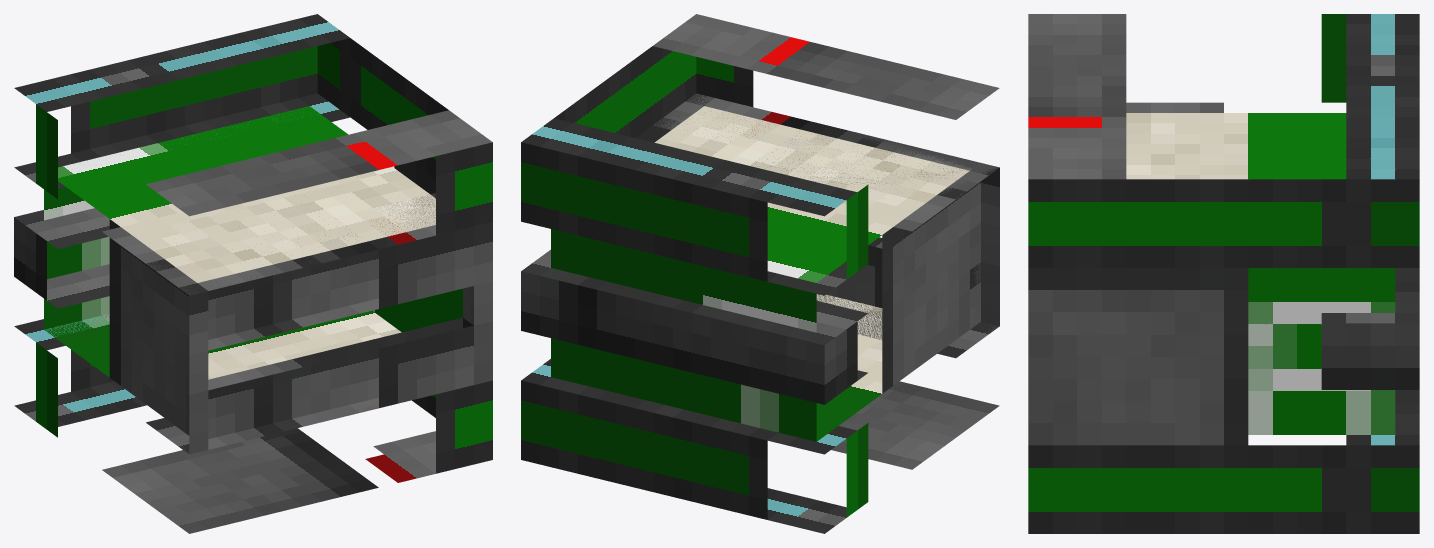
File: electron_exciter.obj
The picture shows the model from 3 angles, left to right: view 1: azimuth 30°, elevation 25°; view 2: azimuth 150°, elevation 25°; view 3: azimuth 270°, elevation 25°; orthographic projection. The views are drawn at different scales.
Parts seen in each view (by area): view 1: model; view 2: model; view 3: model.
Boxes of the visible parts, x1,y1,x2,y2 form: model: [14, 14, 492, 533]; model: [521, 14, 999, 533]; model: [1028, 14, 1419, 533].
Size of the model in its own units: 1 by 1 by 1.
